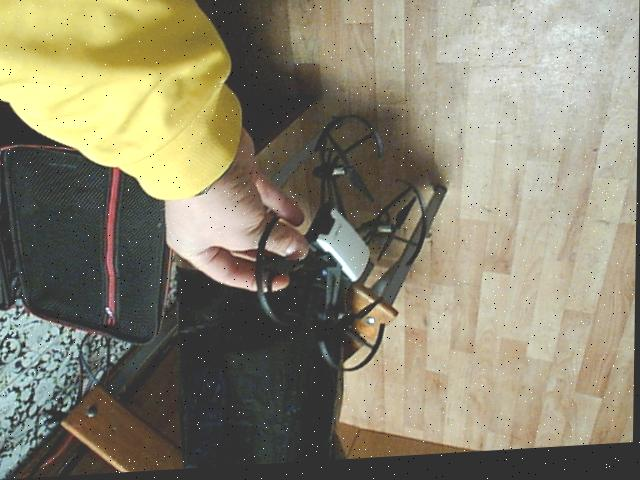drone: (240, 101, 436, 387)
